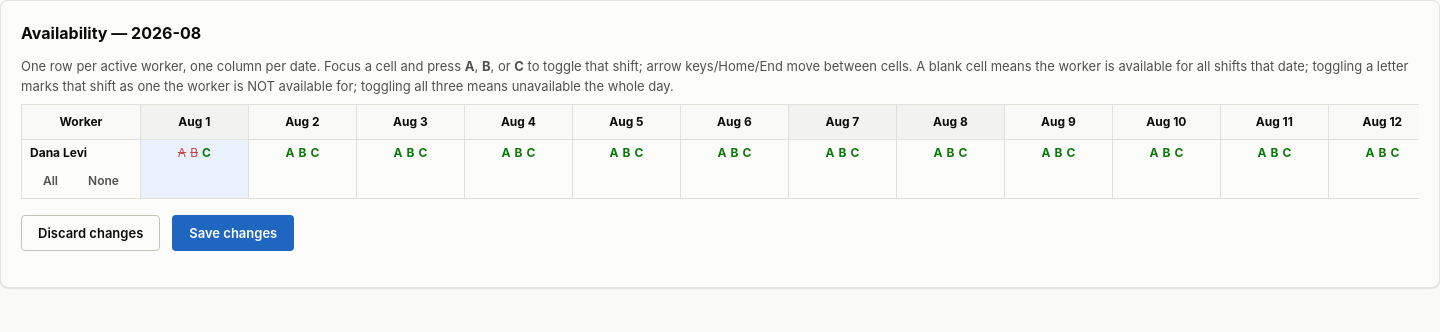
Test: AvailabilityGrid › starts from the server-loaded availability, and "All" clears a worker's exclusions entirely (fully available)
Click the button "All".
click(50, 180)  # box [30,166,71,194]
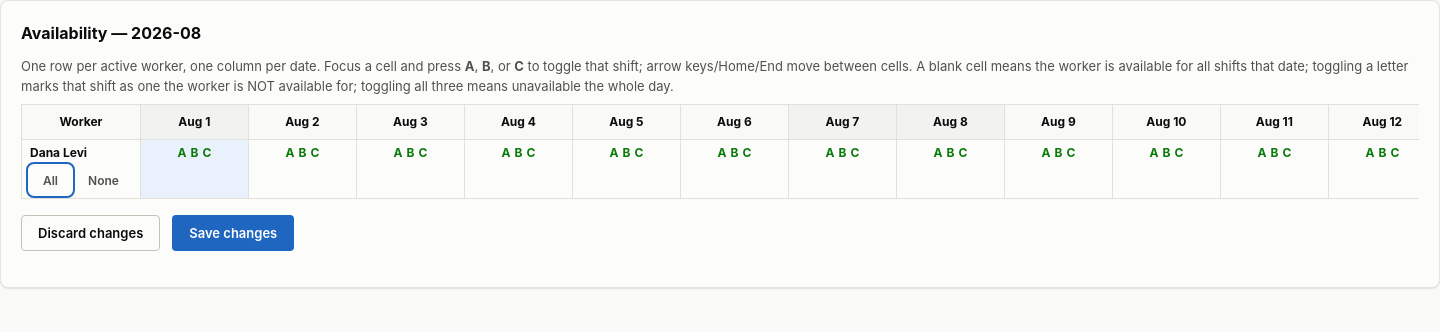
Click the button "Save changes".
click(233, 233)  # box [172,215,294,251]
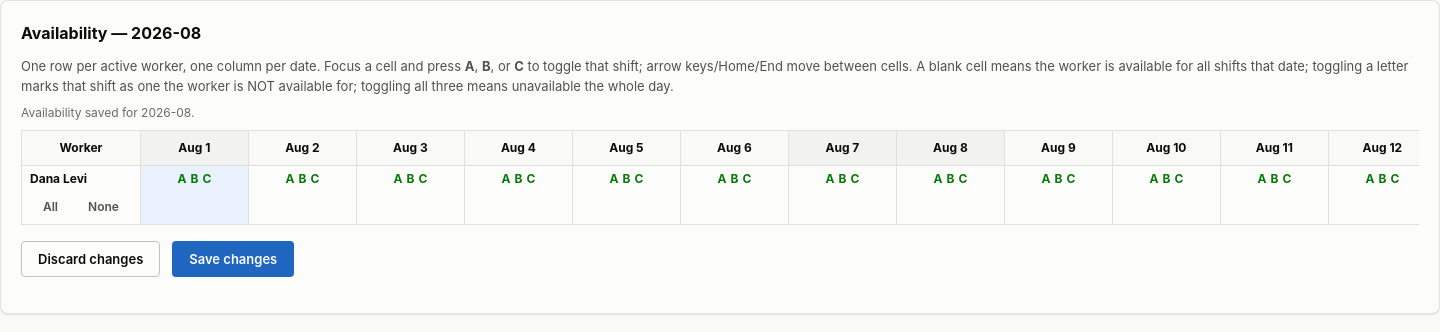
Check: the text "Availability saved for 2026-08." is shown, box [21,105,194,120]
